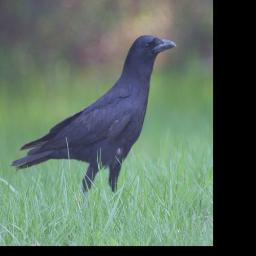Crow: (10, 33, 176, 209)
